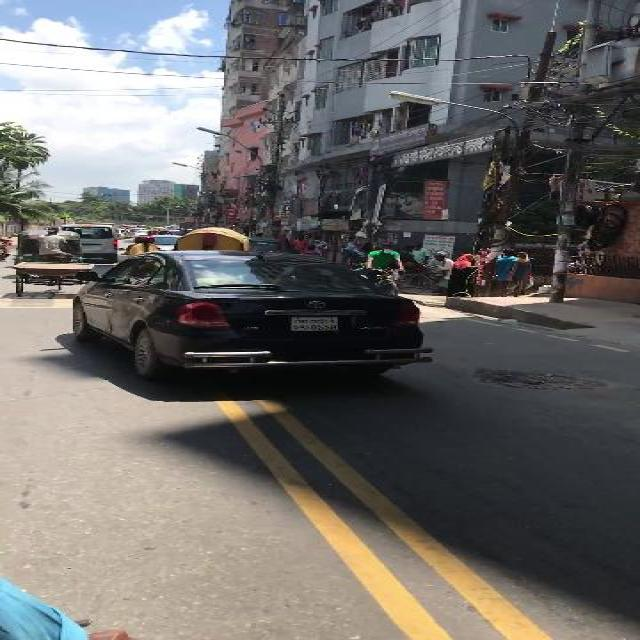bicycle: (355, 241, 406, 297)
car: (68, 248, 433, 382)
rickshaw: (8, 260, 95, 298), (169, 226, 251, 252)
three wheelers -CNG-: (14, 228, 82, 262)
van: (56, 222, 118, 262)
